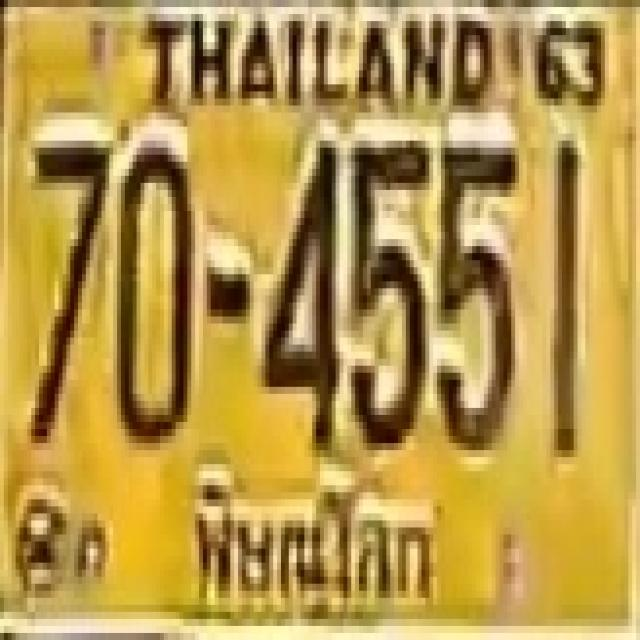0: (113, 141, 187, 436)
1: (548, 141, 576, 450)
4: (260, 134, 338, 443)
5: (433, 134, 515, 443), (348, 134, 426, 443)
7: (28, 134, 106, 436)
PLK: (177, 459, 445, 625)
